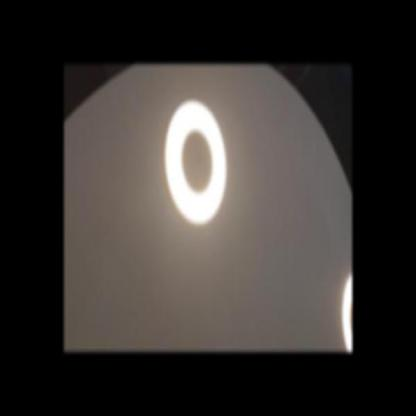light_on: (158, 92, 230, 232), (340, 263, 352, 352)
